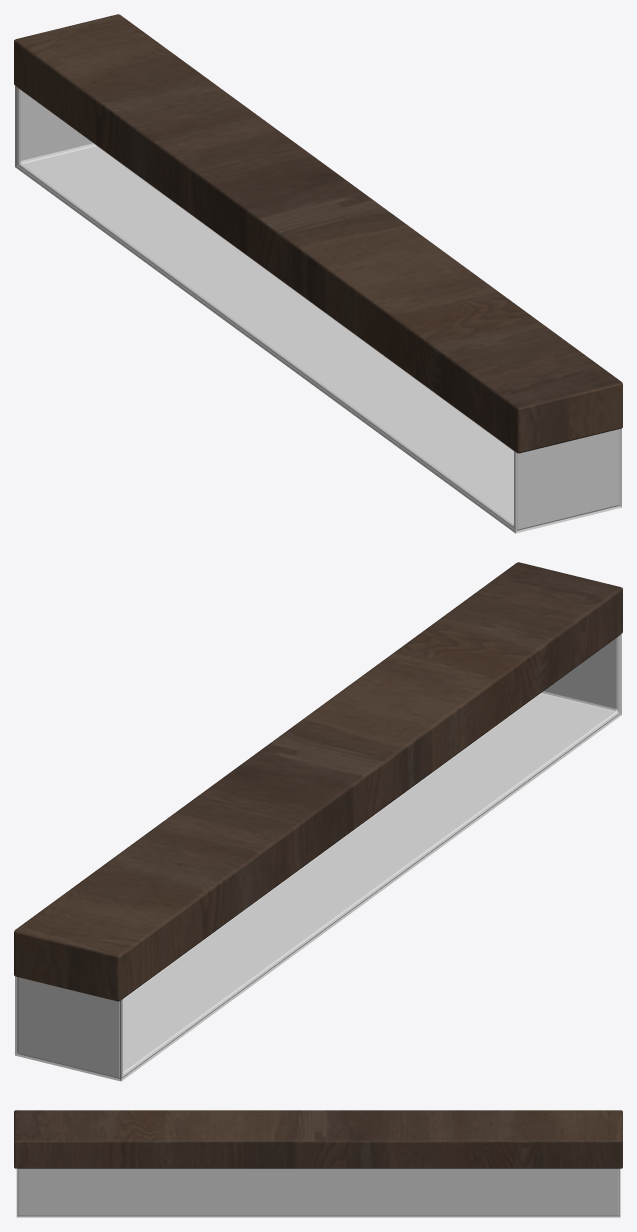
File: ReceptionDESK.fbx
3 views of the same model, one above another, from view 1: azimuth 30°, elevation 25°; view 2: azimuth 150°, elevation 25°; view 3: azimuth 270°, elevation 25° (orthographic). The views are drawn at different scales.
Parts seen in each view (by area): view 1: Cube.019; view 2: Cube.019; view 3: Cube.019.
Boxes of the visible parts, x1=… form: Cube.019: x1=14, y1=14, x2=622, y2=533; Cube.019: x1=14, y1=562, x2=622, y2=1081; Cube.019: x1=14, y1=1110, x2=622, y2=1217.
Size of the model in its own units: 0.9113 by 7.48 by 1.04.
